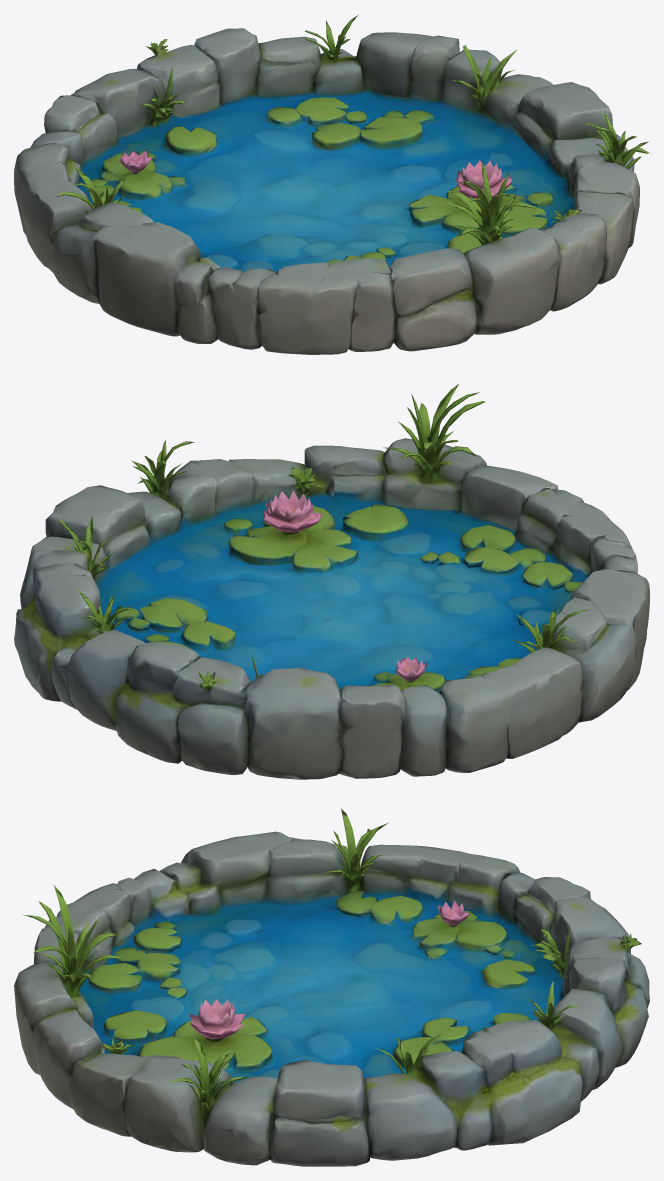
The model's file is estanque.glb.
The picture shows the model from 3 angles, top to bottom: view 1: azimuth 30°, elevation 25°; view 2: azimuth 150°, elevation 25°; view 3: azimuth 270°, elevation 25°; orthographic projection. The views are drawn at different scales.
Visible parts, largest first — view 1: tripo_node_486533d6-0d78-4f75-8248-4689ad8989f9; view 2: tripo_node_486533d6-0d78-4f75-8248-4689ad8989f9; view 3: tripo_node_486533d6-0d78-4f75-8248-4689ad8989f9.
Part boxes in pixels (x1,y1,x2,y2): tripo_node_486533d6-0d78-4f75-8248-4689ad8989f9: [14, 14, 649, 354]; tripo_node_486533d6-0d78-4f75-8248-4689ad8989f9: [14, 384, 649, 779]; tripo_node_486533d6-0d78-4f75-8248-4689ad8989f9: [14, 808, 649, 1166].
Bounding box in the file's own units: 1 × 0.2714 × 0.9988.
1 material, 1 textured.
